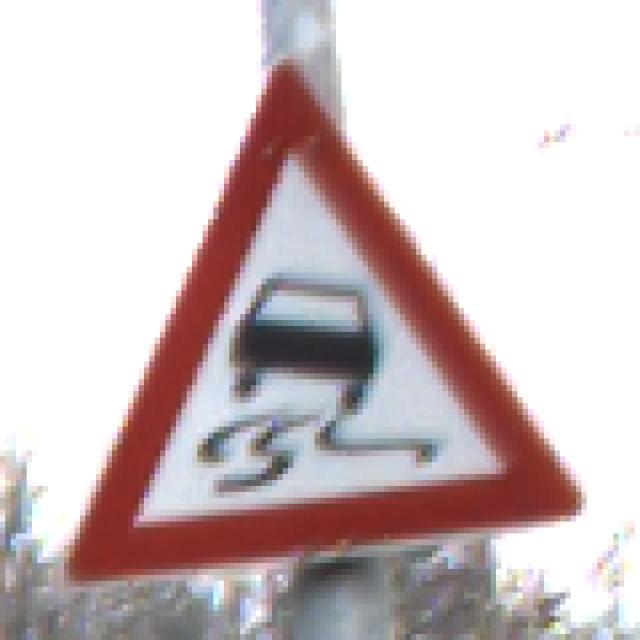slippery road: (55, 54, 587, 584)
